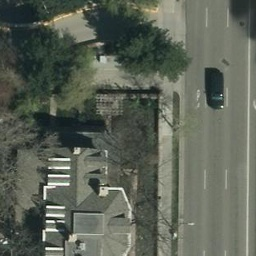car: (207, 71, 225, 108)
